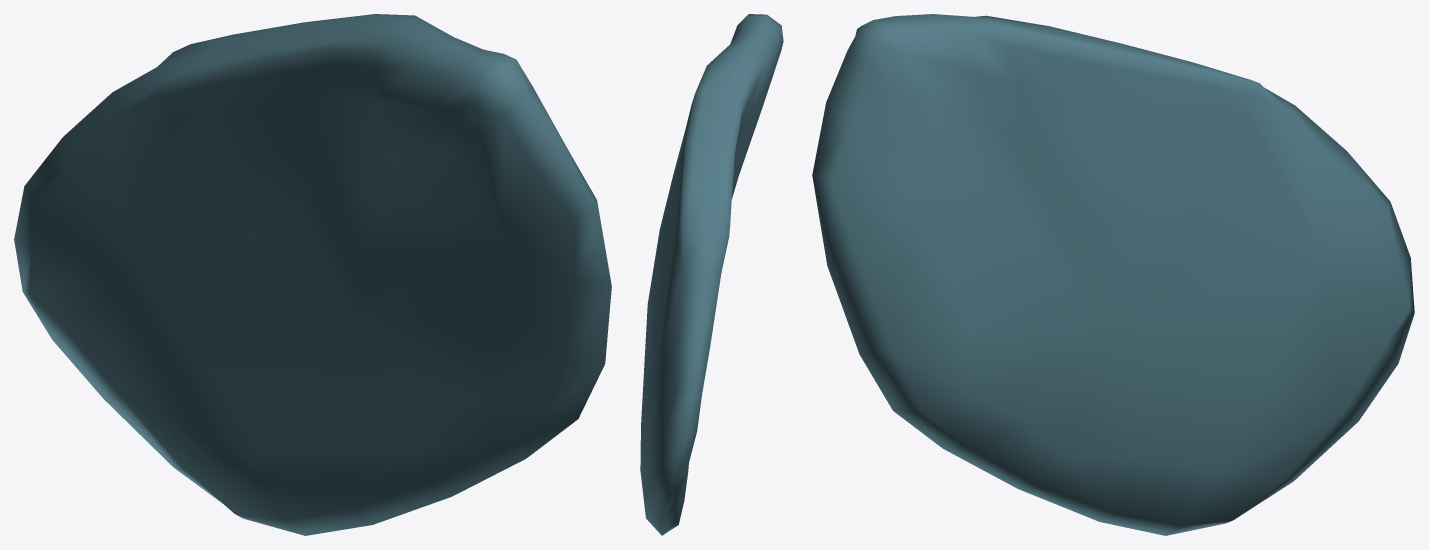
File: Obliquus_inferior_capitis_axis_left.glb
3 views of the same model, side by side, from view 1: azimuth 30°, elevation 25°; view 2: azimuth 150°, elevation 25°; view 3: azimuth 270°, elevation 25° (orthographic). The views are drawn at different scales.
Visible parts, largest first — view 1: Obliquus_inferior_capitis_muscle_on_axis.l_Generated_Mesh_Fr; view 2: Obliquus_inferior_capitis_muscle_on_axis.l_Generated_Mesh_Fr; view 3: Obliquus_inferior_capitis_muscle_on_axis.l_Generated_Mesh_Fr.
Part boxes in pixels (box(x1,y1,x2,y2)): Obliquus_inferior_capitis_muscle_on_axis.l_Generated_Mesh_Fr: box(14, 14, 611, 535); Obliquus_inferior_capitis_muscle_on_axis.l_Generated_Mesh_Fr: box(640, 14, 783, 535); Obliquus_inferior_capitis_muscle_on_axis.l_Generated_Mesh_Fr: box(812, 14, 1414, 535).
Bounding box in the file's own units: 0.00229 × 0.0043 × 0.00446.
